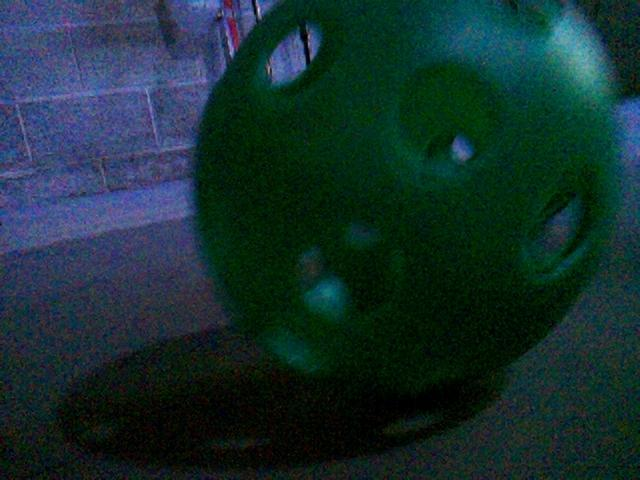Green: (185, 1, 623, 409)
